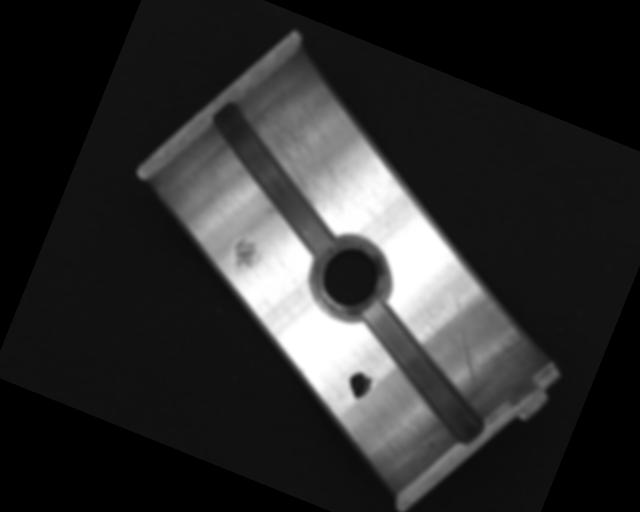blot: (343, 368, 376, 403)
bruise: (224, 234, 263, 279)
gap: (180, 98, 367, 262), (332, 299, 510, 448)
hole: (302, 226, 400, 330)
nick: (426, 294, 503, 386)
scratch: (226, 79, 378, 218)
